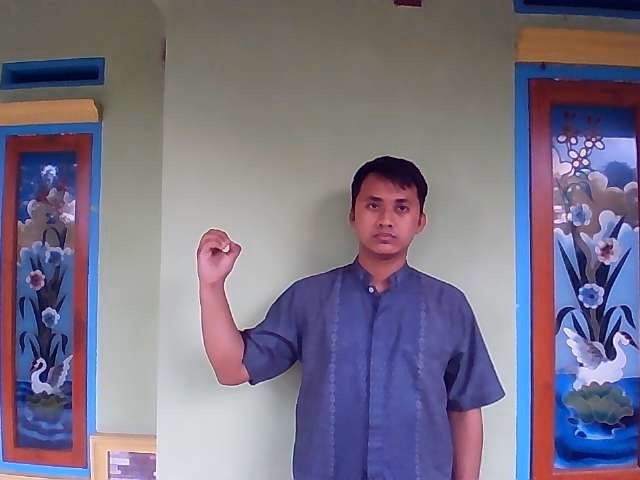O: (193, 226, 242, 284)
